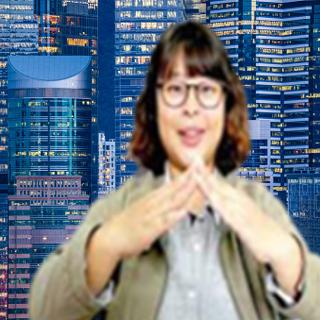HOME: (112, 156, 282, 266)
